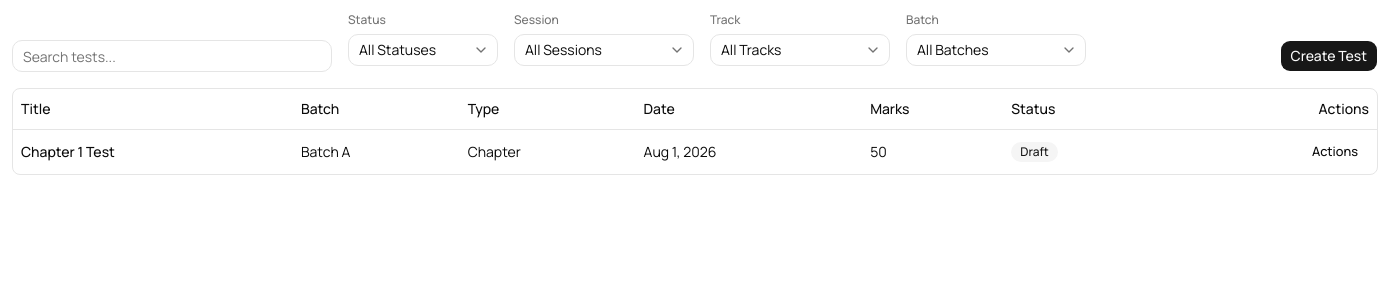
Test: Admin Test UI › 6. DRAFT exposes publish action
The image size is (1390, 283).
Click the button "Actions".
click(1335, 152)  # box [1301,138,1369,166]
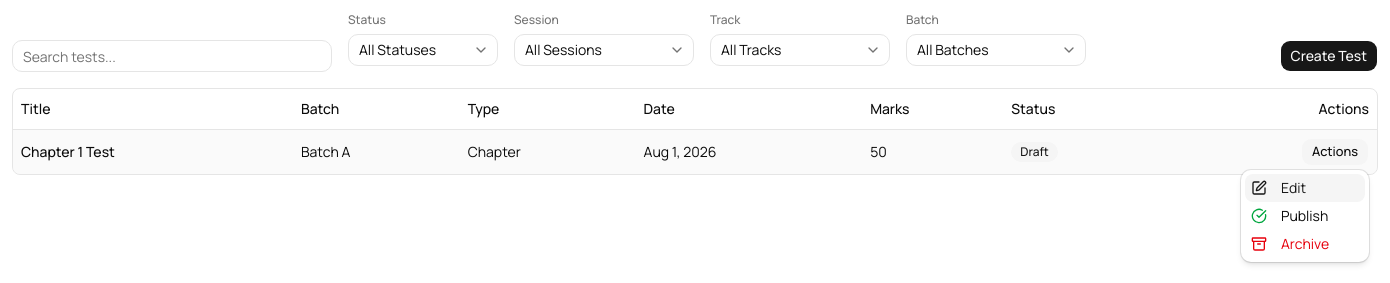
expect the menu item "Publish" is shown: met, box [1251,206,1328,225]
expect the menu item "Edit" is shown: met, box [1245,174,1365,202]
expect the menu item "Archive" is shown: met, box [1251,234,1329,253]
